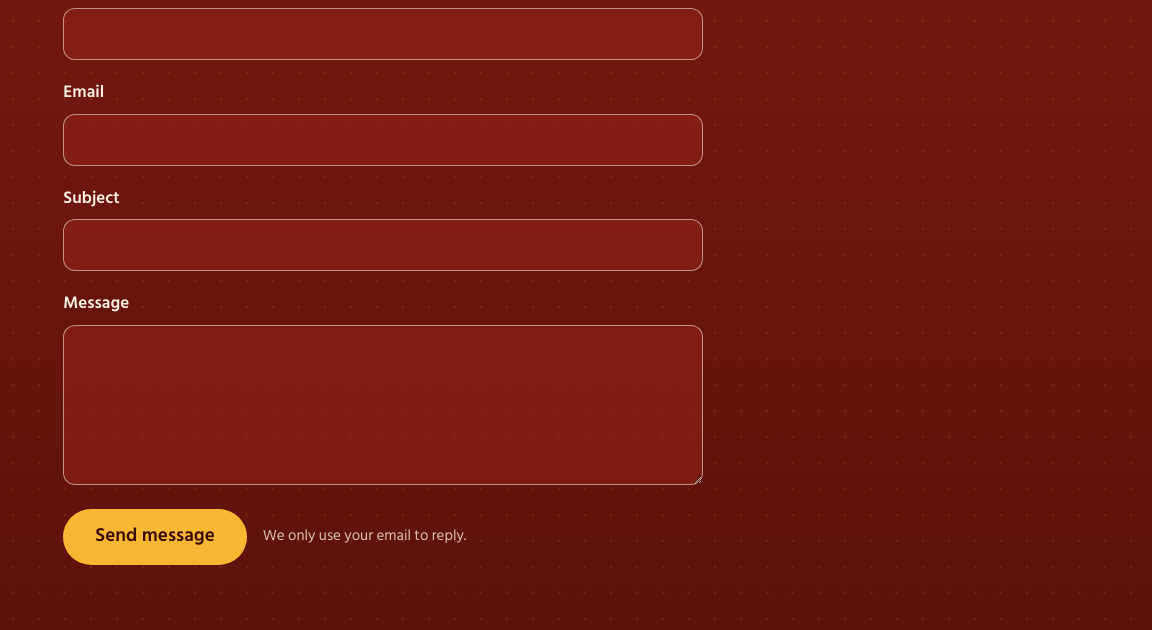
Test: ContactPage › validates before sending and shows field errors
The width and height of the screenshot is (1152, 630).
(page scrolled)
Click the button "Send message" at (155,537), box [63,509,247,565]
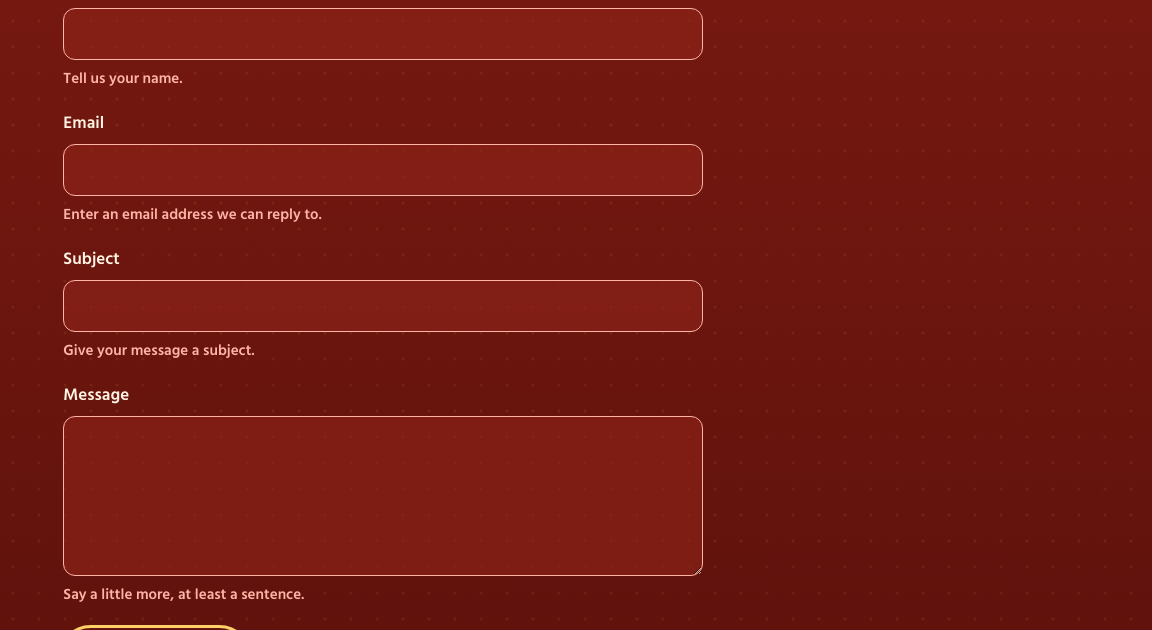
Result: the text "Tell us your name." is shown at [63,66,183,91]
Result: the text "Enter an email address we can reply to." is shown at [63,202,322,227]
Type "Rina" into the field labelled "Your name" at (383,34), box [63,8,703,60]
(page scrolled)
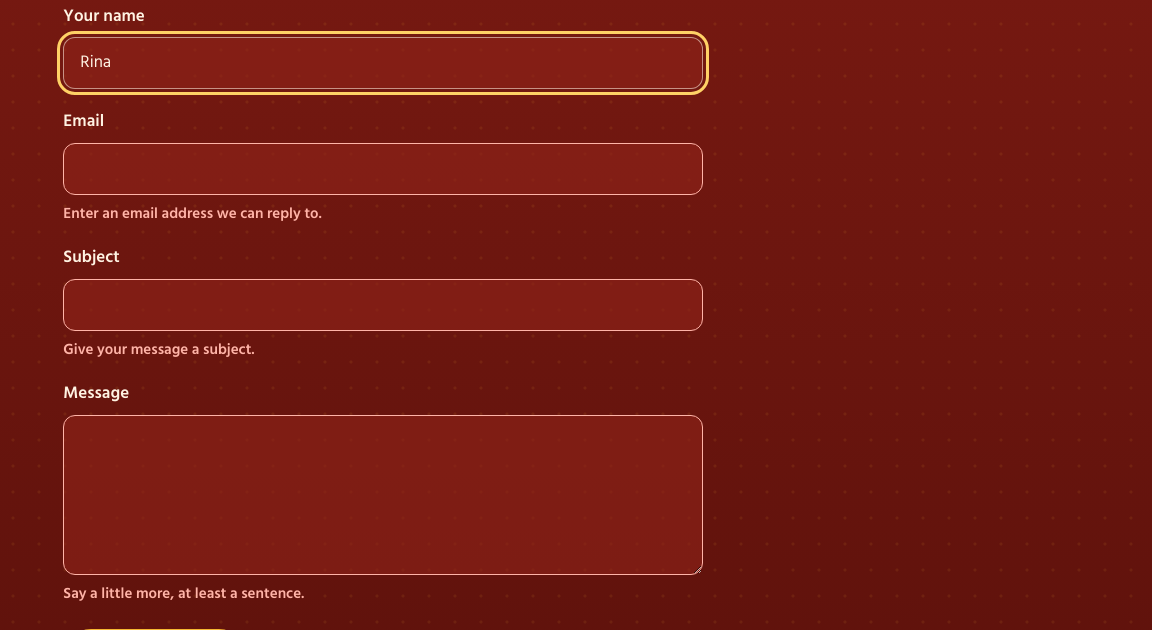
Result: the text "Tell us your name." is gone
